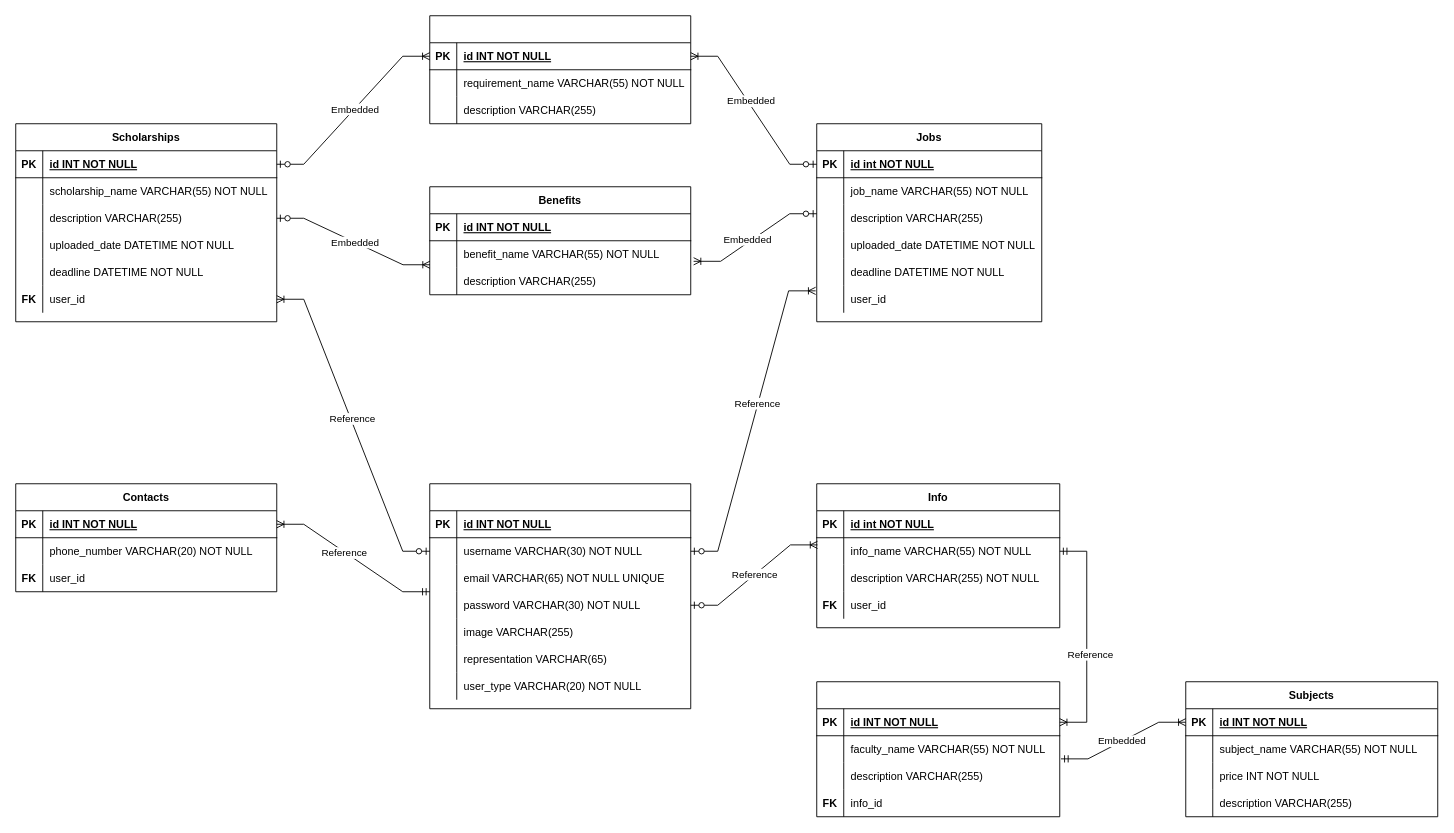
Some shapes in this 1454 by 833 pixel diagram are drawn without their labels. Here are the shapes that lost their labels. From the top down, the box of each, then its label:
(429, 15, 691, 124): Requirements
(429, 483, 691, 709): Users
(816, 681, 1060, 817): Fuculties
